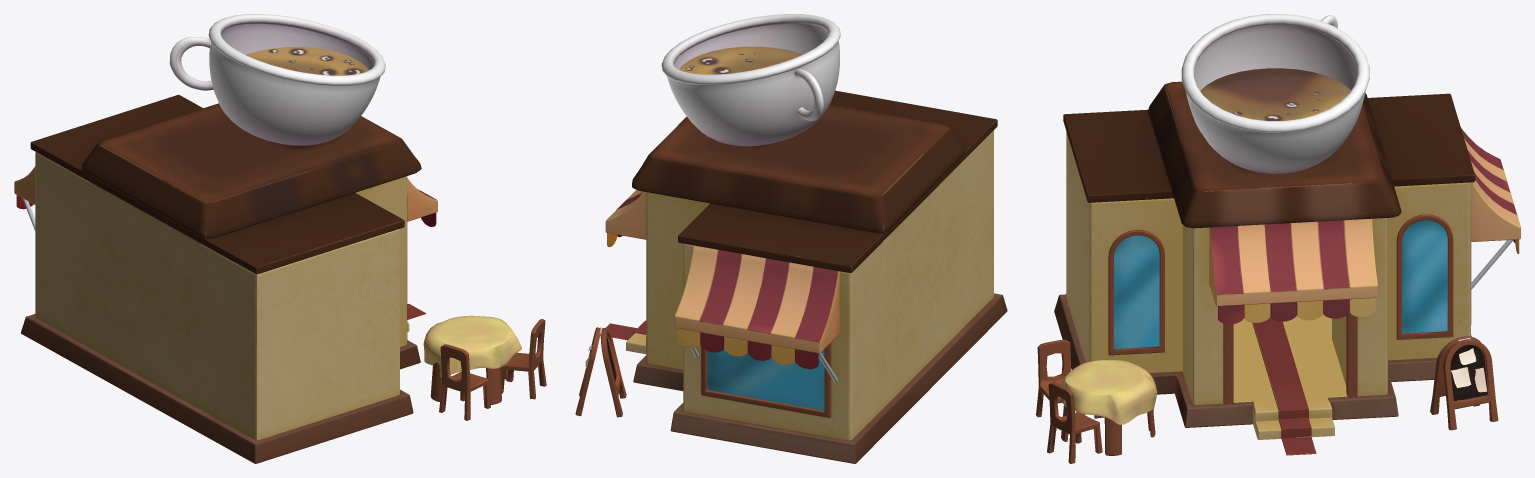
File: building1_lambert1_0_lev2.glb
The picture shows the model from 3 angles, left to right: view 1: azimuth 30°, elevation 25°; view 2: azimuth 150°, elevation 25°; view 3: azimuth 270°, elevation 25°; orthographic projection. The views are drawn at different scales.
Parts seen in each view (by area): view 1: building1_lambert1_0_lev2; view 2: building1_lambert1_0_lev2; view 3: building1_lambert1_0_lev2.
Boxes of the visible parts, x1=… form: building1_lambert1_0_lev2: x1=14, y1=14, x2=546, y2=463; building1_lambert1_0_lev2: x1=575, y1=14, x2=1007, y2=463; building1_lambert1_0_lev2: x1=1036, y1=14, x2=1520, y2=463.
Size of the model in its own units: 14.12 by 12.82 by 16.63.
1 material, 1 textured.
